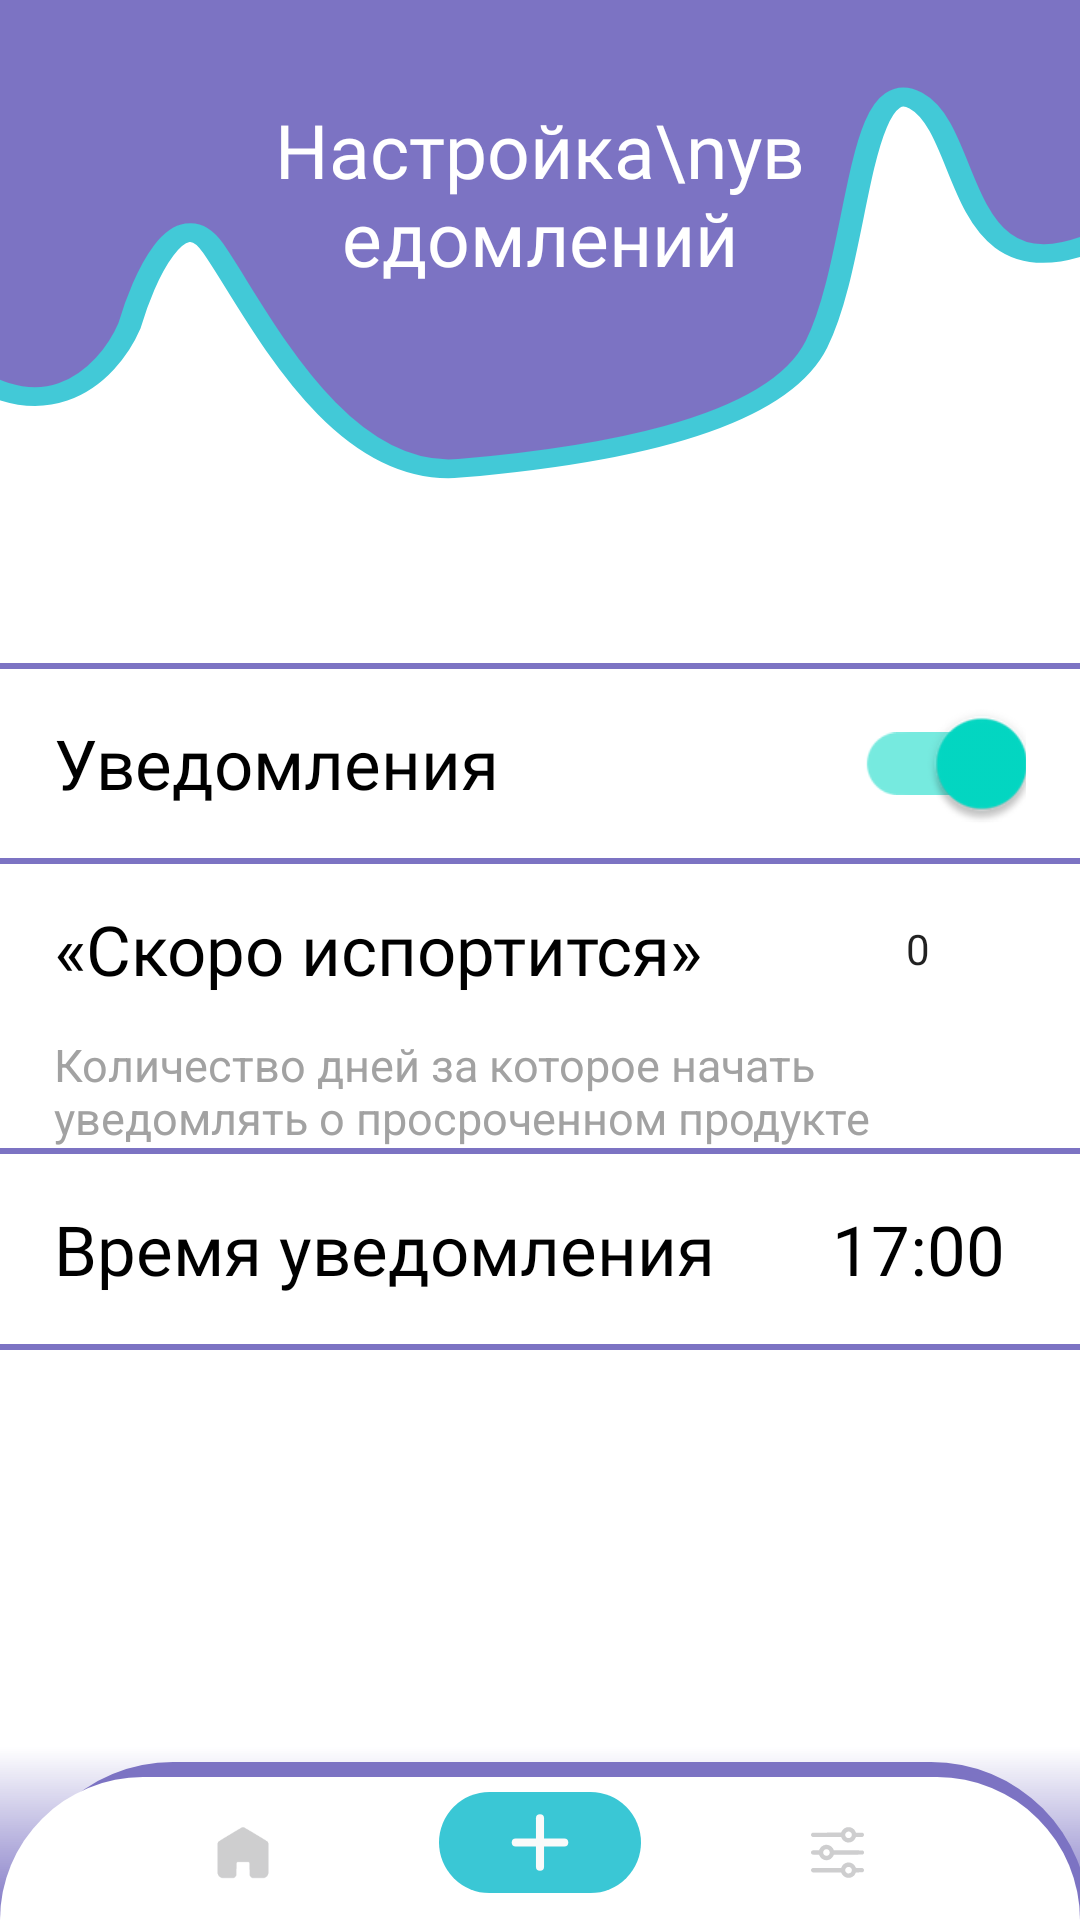

Named icons in this screenshot (1080*1920) and their bounding boxes, (x1, y1, x2, y2):
main: (218, 1827, 269, 1878)
settings: (811, 1827, 864, 1878)
va add item: (439, 1792, 641, 1893)
